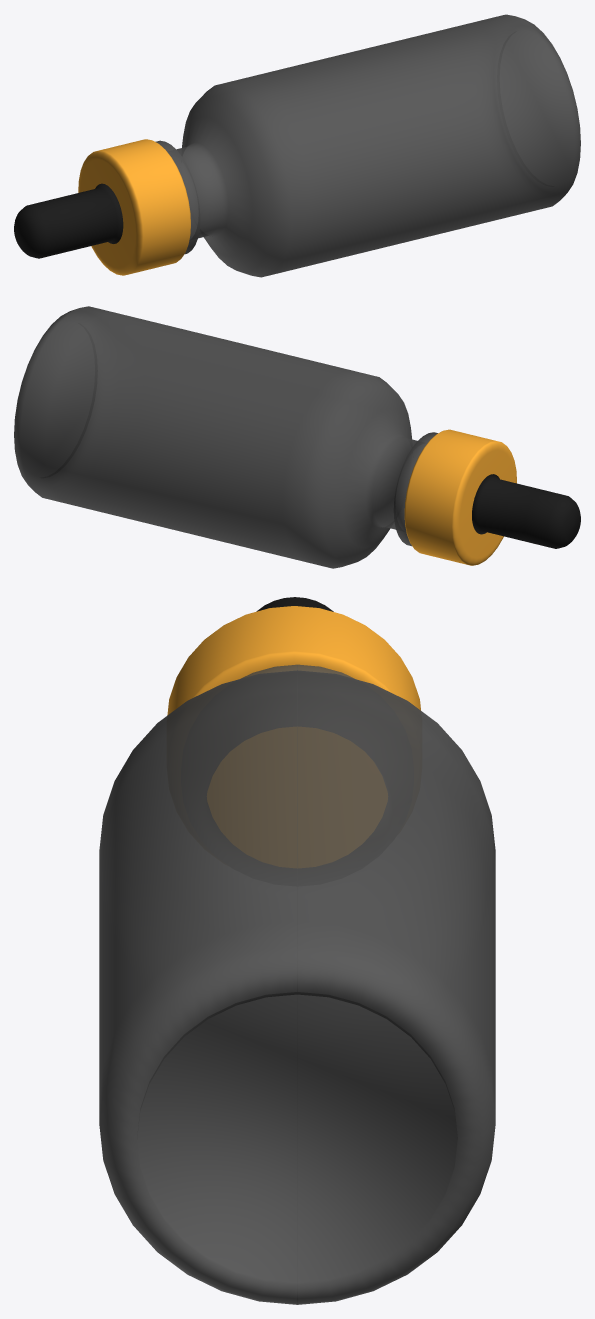
File: SerumBottle6.gltf
The picture shows the model from 3 angles, top to bottom: view 1: azimuth 30°, elevation 25°; view 2: azimuth 150°, elevation 25°; view 3: azimuth 270°, elevation 25°; orthographic projection. The views are drawn at different scales.
Visible parts, largest first — view 1: Cylinder, Cylinder.001, Cylinder.002; view 2: Cylinder, Cylinder.001, Cylinder.002; view 3: Cylinder, Cylinder.001.
Part boxes in pixels (bbox=[...]): Cylinder: bbox=[155, 14, 580, 277]; Cylinder.001: bbox=[78, 139, 190, 275]; Cylinder.002: bbox=[14, 183, 123, 258]; Cylinder: bbox=[14, 306, 437, 568]; Cylinder.001: bbox=[404, 429, 516, 565]; Cylinder.002: bbox=[472, 474, 580, 548]; Cylinder: bbox=[99, 664, 495, 1304]; Cylinder.001: bbox=[167, 606, 420, 867].
Size of the model in its own units: 4.21 by 1.39 by 1.39.
